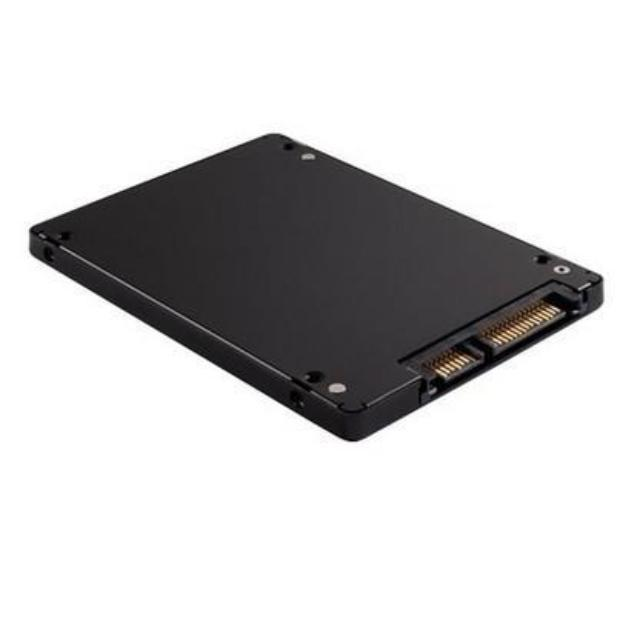DISK: (23, 126, 609, 444)
